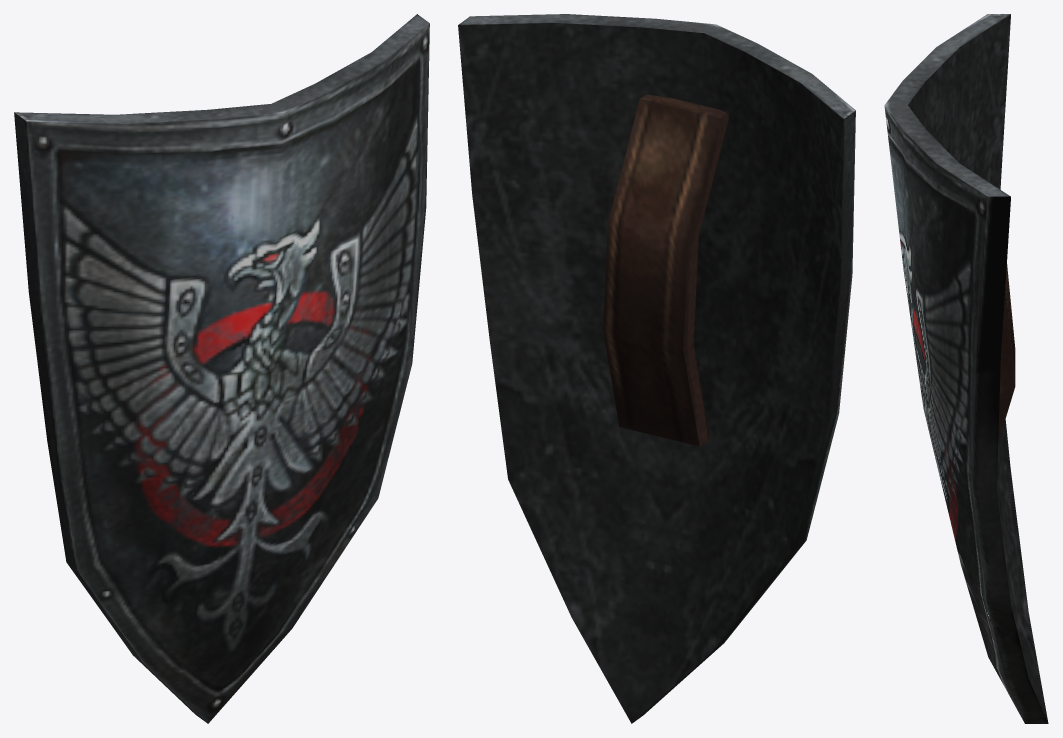
File: Yunxingdun.FBX
3 views of the same model, side by side, from view 1: azimuth 30°, elevation 25°; view 2: azimuth 150°, elevation 25°; view 3: azimuth 270°, elevation 25° (orthographic). The views are drawn at different scales.
Parts seen in each view (by area): view 1: Yunxingdun; view 2: Yunxingdun; view 3: Yunxingdun.
Part boxes in pixels (<box>): Yunxingdun: <box>14,14,429,723</box>; Yunxingdun: <box>458,14,855,723</box>; Yunxingdun: <box>884,14,1048,723</box>.
Size of the model in its own units: 51.37 by 81.12 by 19.5.
Materials: 1 (1 with a texture image).
